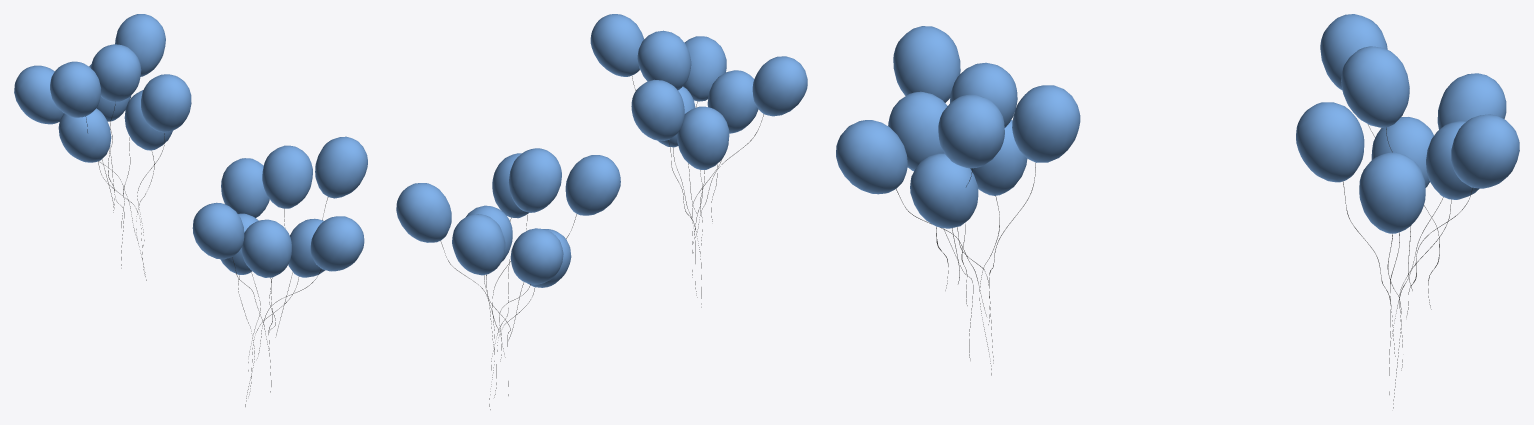
The model's file is Balloon.glb.
3 views of the same model, side by side, from view 1: azimuth 30°, elevation 25°; view 2: azimuth 150°, elevation 25°; view 3: azimuth 270°, elevation 25° (orthographic). The views are drawn at different scales.
Parts seen in each view (by area): view 1: BezierCurve.021; view 2: BezierCurve.021; view 3: BezierCurve.021.
Boxes of the visible parts, x1,y1,x2,y2 form: BezierCurve.021: (14,14,367,406); BezierCurve.021: (396,14,807,409); BezierCurve.021: (836,14,1519,408).
Bounding box in the file's own units: 6.4 × 8.4 × 15.42.
